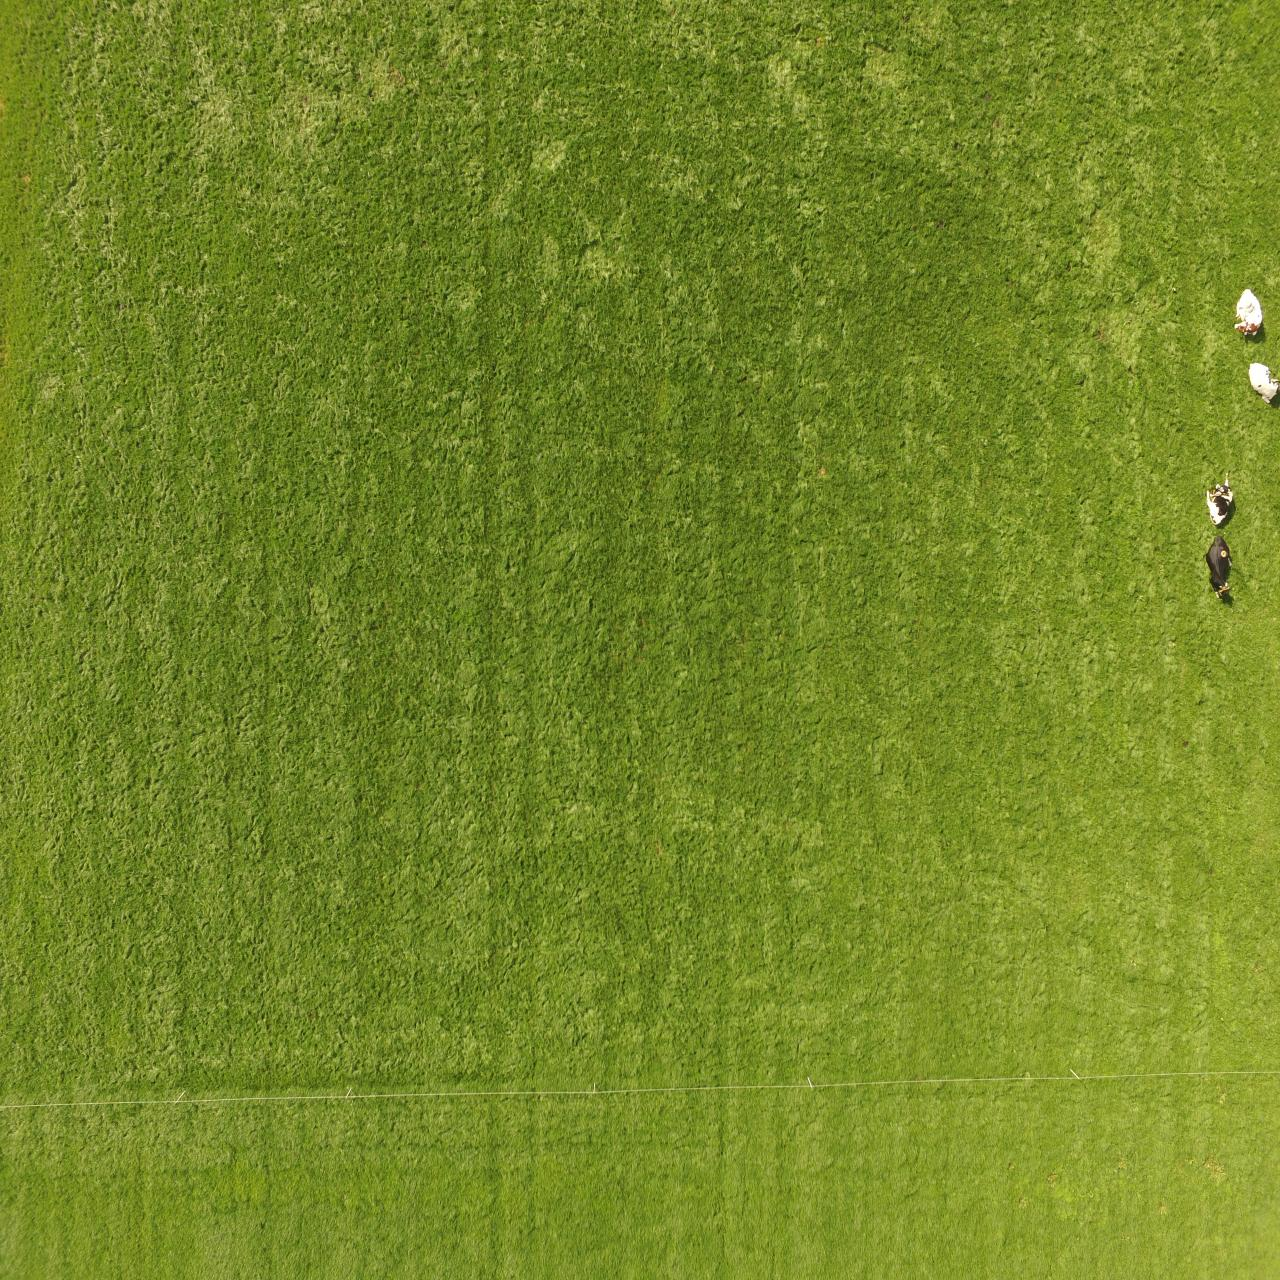cow: (1205, 536, 1233, 599), (1206, 471, 1237, 527), (1233, 286, 1264, 339), (1247, 359, 1280, 406)
